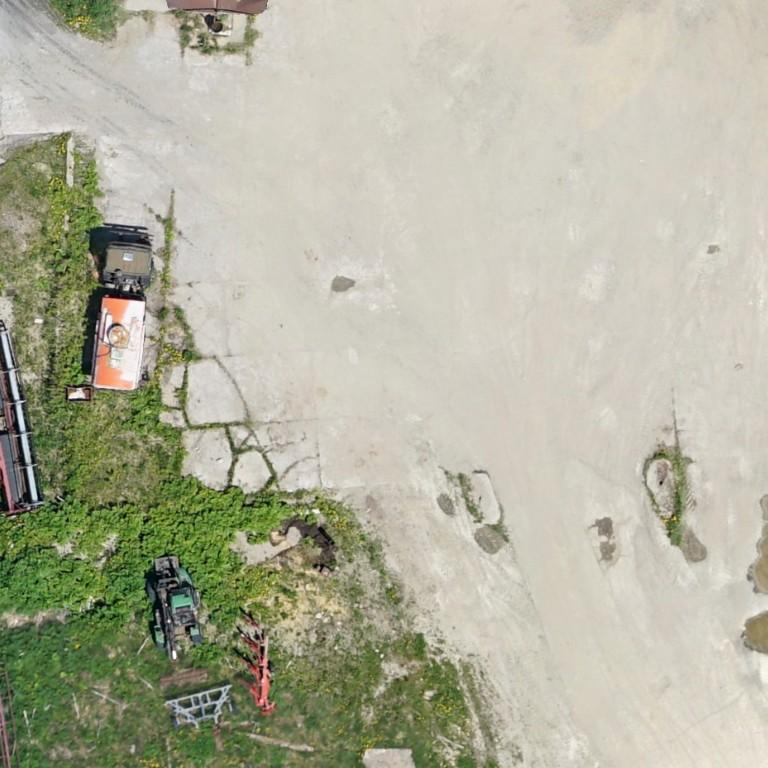hogweed: (0, 478, 292, 633), (0, 612, 94, 713), (0, 494, 142, 560), (125, 388, 158, 433)
